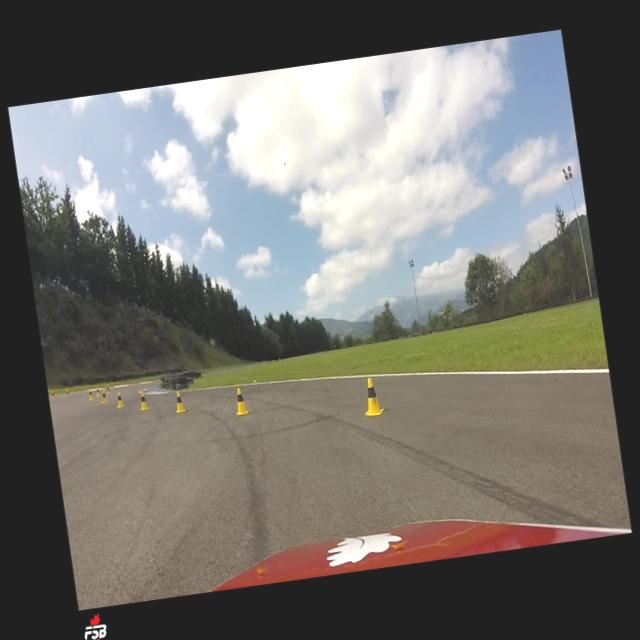orange_cone: (52, 391, 54, 396), (66, 389, 68, 394)
yellow_cone: (360, 376, 384, 417), (232, 386, 250, 416), (173, 390, 186, 413), (138, 392, 149, 412), (114, 391, 124, 408), (100, 389, 108, 404), (87, 388, 94, 401), (96, 386, 100, 397), (106, 384, 110, 394)
